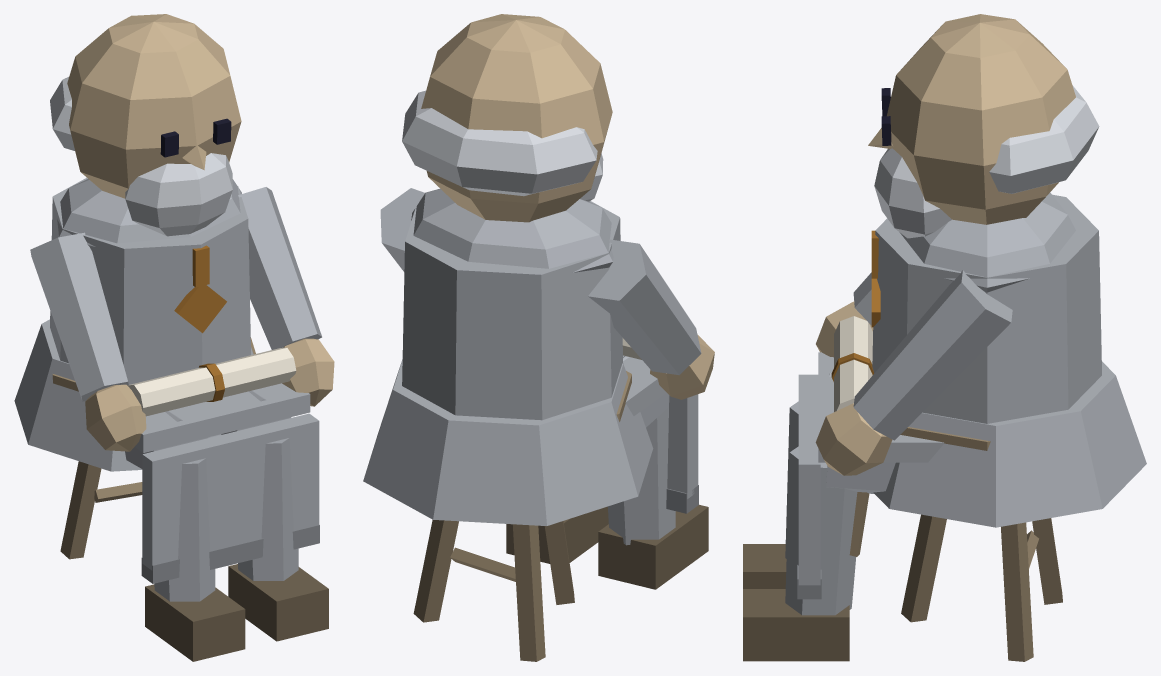
Rendered from aldous_warden_seated.glb.
3 renders of one model, left to right at view 1: azimuth 30°, elevation 25°; view 2: azimuth 150°, elevation 25°; view 3: azimuth 270°, elevation 25°, orthographic. The views are drawn at different scales.
Parts seen in each view (by area): view 1: Torso, Head, LegR, LegL, ArmR, ArmL, Stool; view 2: Torso, Head, LegR, ArmR, Stool, LegL, ArmL; view 3: Torso, Head, LegL, ArmL, Stool, LegR, ArmR.
Boxes of the visible parts, bbox=[...] form: Torso: bbox=[14, 177, 296, 471]; Head: bbox=[50, 14, 241, 236]; LegR: bbox=[125, 402, 245, 661]; LegL: bbox=[210, 383, 328, 641]; ArmR: bbox=[30, 232, 146, 451]; ArmL: bbox=[238, 187, 334, 406]; Stool: bbox=[60, 461, 142, 559]; Torso: bbox=[363, 188, 653, 525]; Head: bbox=[402, 14, 612, 222]; LegR: bbox=[598, 355, 708, 589]; ArmR: bbox=[588, 239, 714, 399]; Stool: bbox=[413, 520, 574, 661]; LegL: bbox=[506, 506, 608, 563]; ArmL: bbox=[380, 188, 424, 271]; Torso: bbox=[831, 192, 1146, 556]; Head: bbox=[868, 14, 1099, 238]; LegL: bbox=[743, 397, 944, 661]; ArmL: bbox=[815, 270, 1012, 475]; Stool: bbox=[901, 514, 1062, 661]; LegR: bbox=[743, 352, 833, 588]; ArmR: bbox=[816, 272, 873, 357].
Size of the model in its own units: 0.6944 by 1.5 by 0.91.
